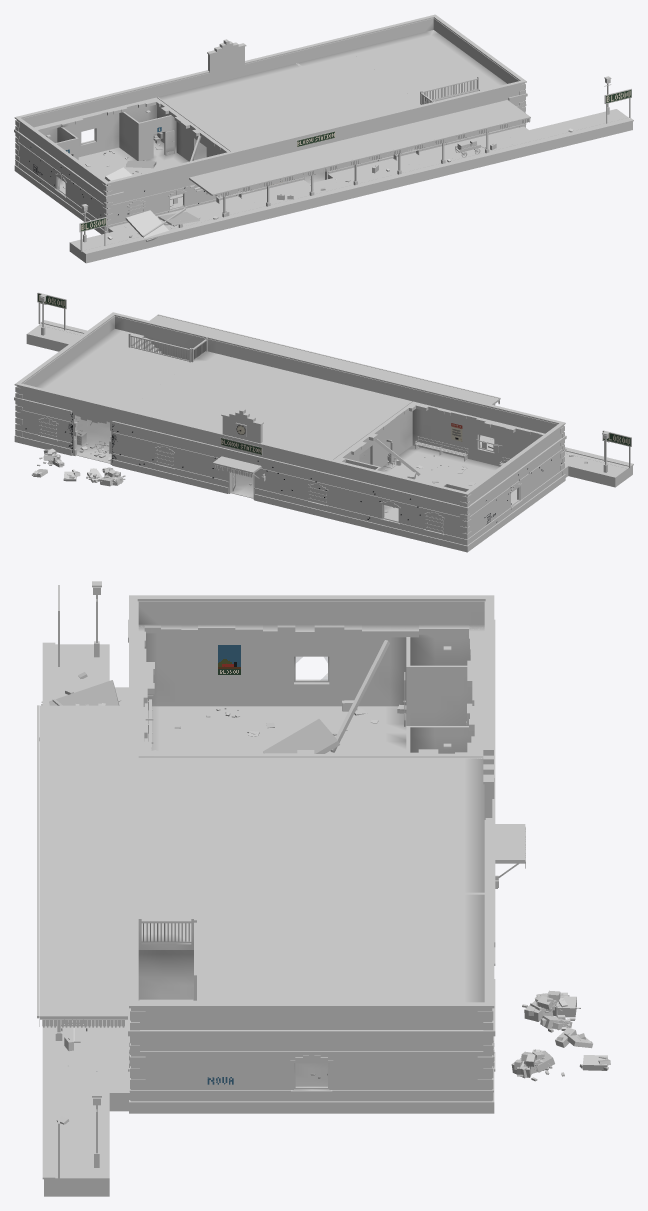
File: train_station.glb
3 renders of one model, top to bottom at view 1: azimuth 30°, elevation 25°; view 2: azimuth 150°, elevation 25°; view 3: azimuth 270°, elevation 25°, orthographic. The views are drawn at different scales.
Parts seen in each view (by area): view 1: train_station; view 2: train_station; view 3: train_station.
Part boxes in pixels (<box>): train_station: <box>14,14,633,263</box>; train_station: <box>14,292,633,552</box>; train_station: <box>37,581,610,1196</box>.
Bounding box in the file's own units: 50.44 × 7.25 × 22.71.
4 materials, 3 textured.
